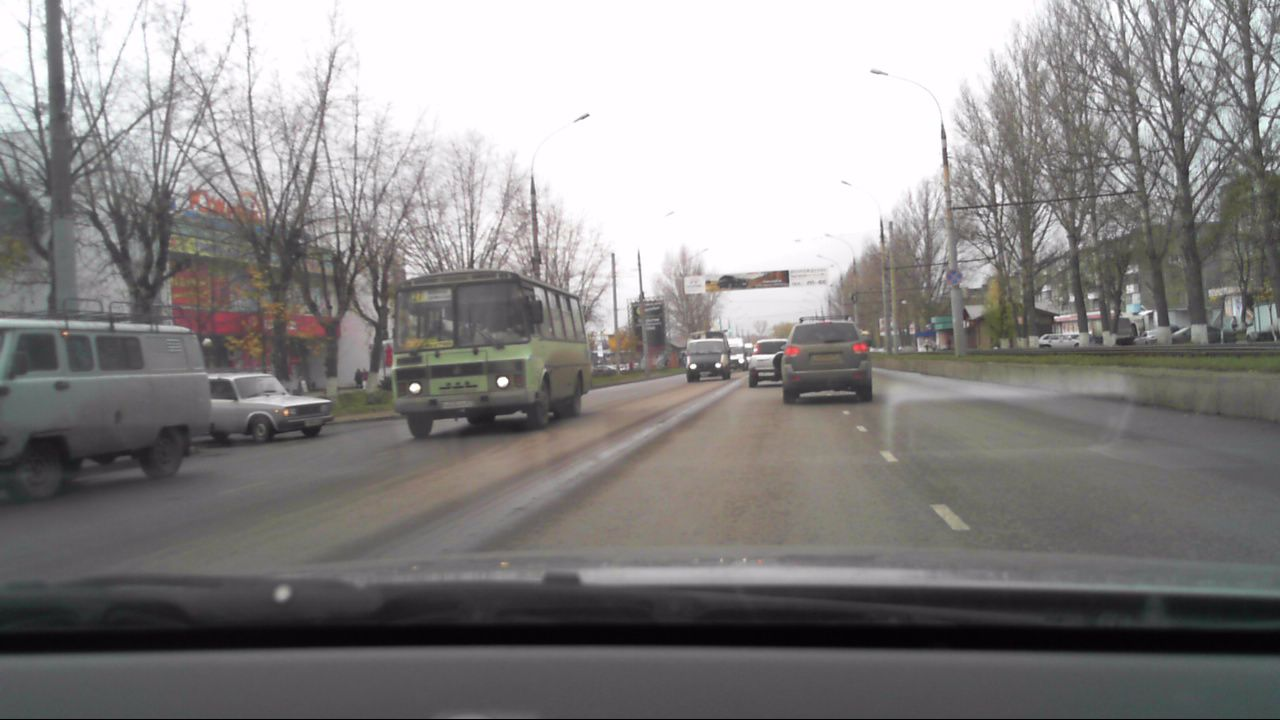No Parking: (944, 267, 964, 289)
